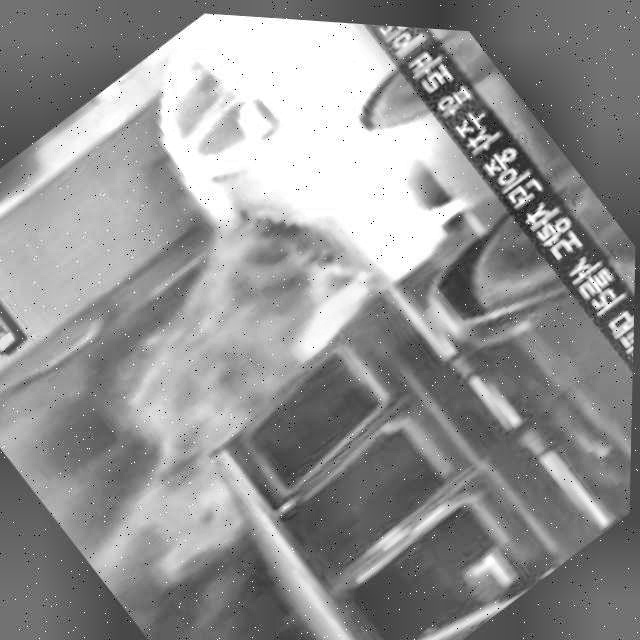Fire: (0, 140, 465, 640)
